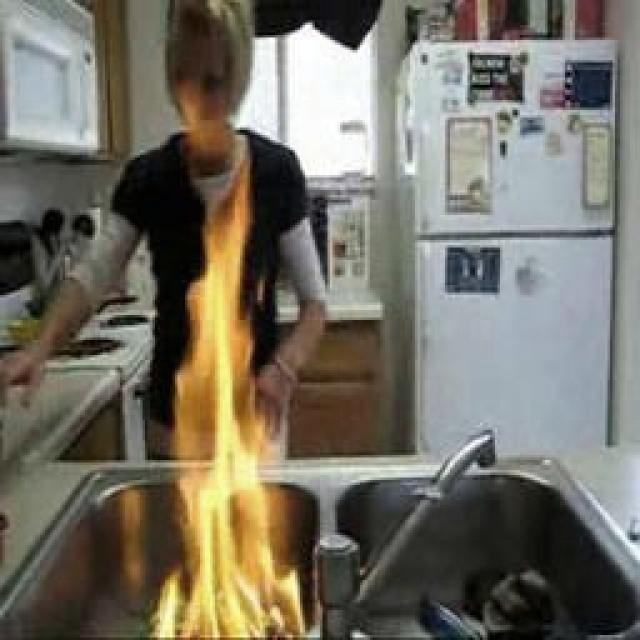fire: (140, 84, 321, 640)
